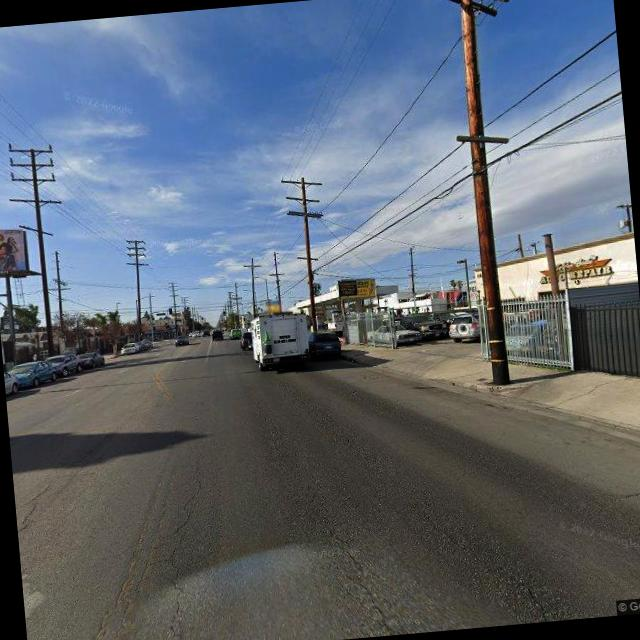crack: (139, 437, 230, 640), (428, 493, 548, 623), (322, 503, 384, 630), (16, 463, 58, 528)
